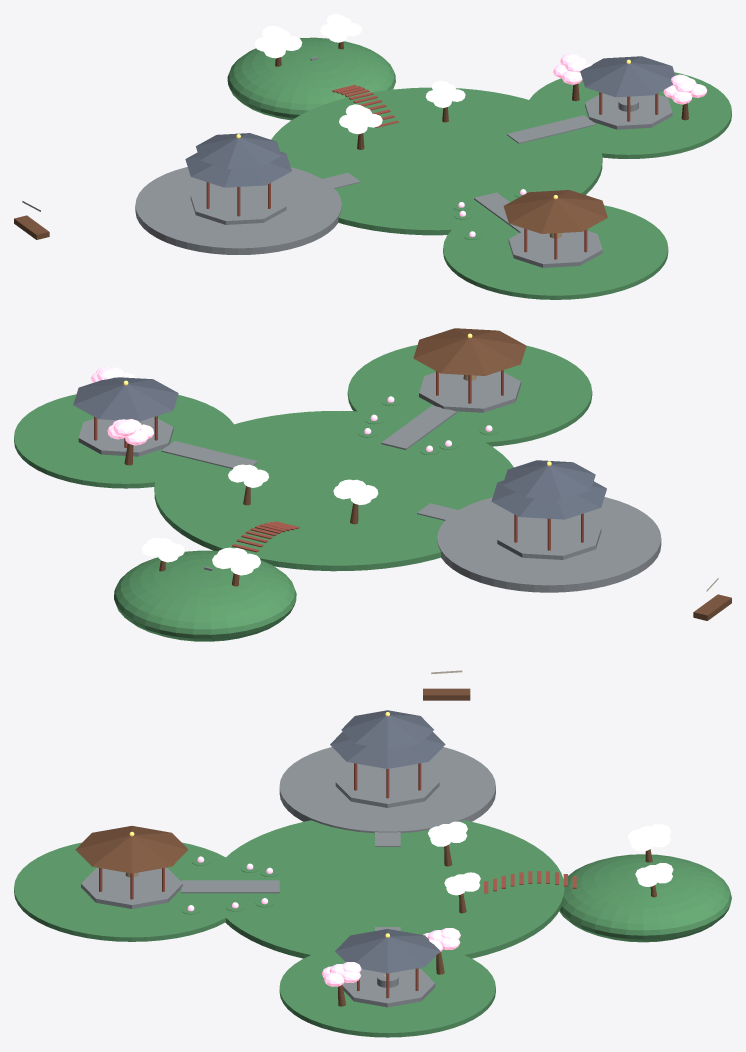
Rendered from truyen_kieu_world.glb.
3 renders of one model, top to bottom at view 1: azimuth 30°, elevation 25°; view 2: azimuth 150°, elevation 25°; view 3: azimuth 270°, elevation 25°, orthographic. The views are drawn at different scales.
Visible parts, largest first — view 1: Zone1_DoiCoThanhMinh, Zone4_DaoAmGiacDuyen, Zone3_BoBienNgungBich, Zone1_GoDatDamTien, Zone2_DaoVuonThuy, Zone3_LauNgungBich, Zone4_AmGiacDuyen, Zone2_LauTheNguyen, Zone3_LauNgungBich_Base, Zone4_AmGiacDuyen_Base, Zone2_LauTheNguyen_Base, Cube.013 (+2 smaller); view 2: Zone1_DoiCoThanhMinh, Zone4_DaoAmGiacDuyen, Zone3_BoBienNgungBich, Zone1_GoDatDamTien, Zone2_DaoVuonThuy, Zone3_LauNgungBich, Zone4_AmGiacDuyen, Zone2_LauTheNguyen, Zone3_LauNgungBich_Base, Zone4_AmGiacDuyen_Base, Zone2_LauTheNguyen_Base, Cube.016 (+2 smaller); view 3: Zone1_DoiCoThanhMinh, Zone4_DaoAmGiacDuyen, Zone1_GoDatDamTien, Zone2_DaoVuonThuy, Zone3_BoBienNgungBich, Zone3_LauNgungBich, Zone4_AmGiacDuyen, Zone2_LauTheNguyen, Zone3_LauNgungBich_Base, Zone4_AmGiacDuyen_Base, Zone2_LauTheNguyen_Base, Cube.016 (+1 smaller).
Part boxes in pixels (x1,y1,x2,y2): Zone1_DoiCoThanhMinh: (271, 87, 602, 235); Zone4_DaoAmGiacDuyen: (443, 205, 668, 299); Zone3_BoBienNgungBich: (135, 167, 341, 254); Zone1_GoDatDamTien: (227, 37, 395, 120); Zone2_DaoVuonThuy: (526, 72, 731, 158); Zone3_LauNgungBich: (185, 133, 291, 216); Zone4_AmGiacDuyen: (503, 190, 607, 259); Zone2_LauTheNguyen: (580, 56, 675, 121); Zone3_LauNgungBich_Base: (190, 184, 286, 224); Zone4_AmGiacDuyen_Base: (508, 229, 602, 267); Zone2_LauTheNguyen_Base: (585, 93, 672, 129); Cube.013: (507, 115, 596, 143); Zone1_DoiCoThanhMinh: (154, 411, 513, 571); Zone4_DaoAmGiacDuyen: (347, 345, 592, 446); Zone3_BoBienNgungBich: (437, 497, 661, 592); Zone1_GoDatDamTien: (114, 550, 296, 641); Zone2_DaoVuonThuy: (14, 394, 237, 488); Zone3_LauNgungBich: (491, 460, 606, 550); Zone4_AmGiacDuyen: (413, 328, 526, 403); Zone2_LauTheNguyen: (73, 377, 178, 447); Zone3_LauNgungBich_Base: (497, 515, 601, 559); Zone4_AmGiacDuyen_Base: (419, 371, 520, 412); Zone2_LauTheNguyen_Base: (78, 417, 173, 456); Cube.016: (381, 405, 456, 449); Zone1_DoiCoThanhMinh: (211, 820, 564, 958); Zone4_DaoAmGiacDuyen: (14, 842, 248, 941); Zone1_GoDatDamTien: (559, 854, 731, 942); Zone2_DaoVuonThuy: (279, 946, 495, 1037); Zone3_BoBienNgungBich: (279, 747, 495, 833); Zone3_LauNgungBich: (330, 710, 445, 798); Zone4_AmGiacDuyen: (75, 826, 188, 899); Zone2_LauTheNguyen: (335, 929, 440, 998); Zone3_LauNgungBich_Base: (335, 764, 439, 807); Zone4_AmGiacDuyen_Base: (81, 868, 182, 908); Zone2_LauTheNguyen_Base: (342, 968, 435, 1007); Cube.016: (181, 880, 279, 893).
Bounding box in the file's own units: 81.8 × 12.32 × 73.
